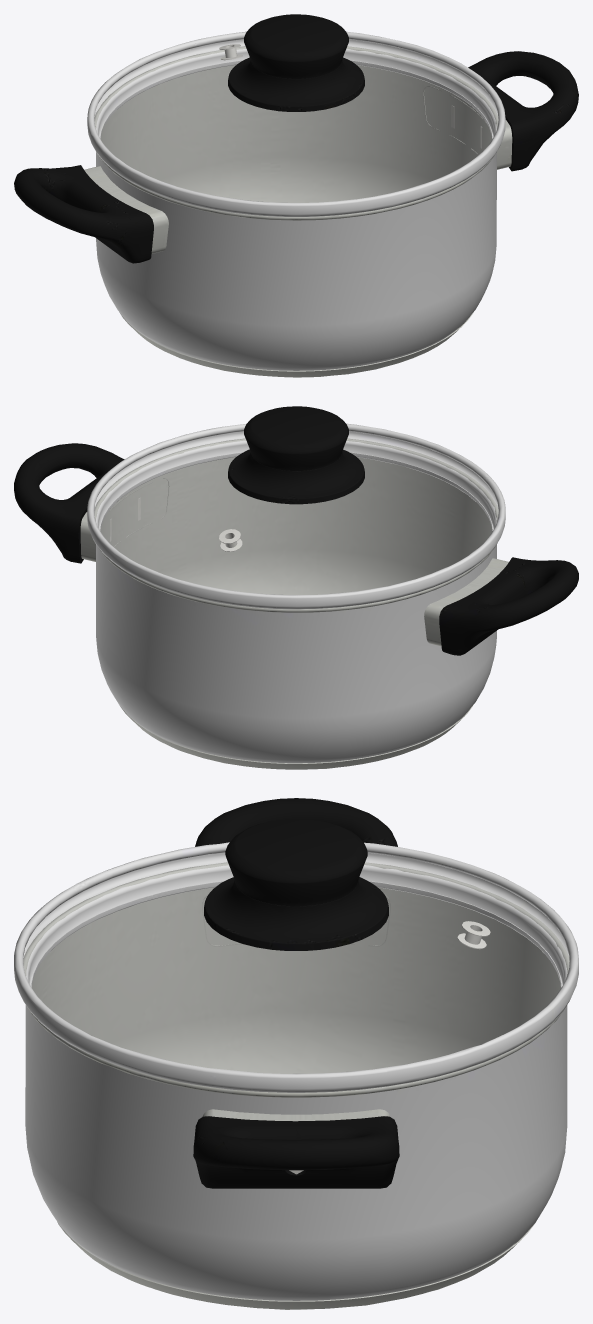
File: annons_garnek_z_pokrywka_80298474.glb
3 views of the same model, one above another, from view 1: azimuth 30°, elevation 25°; view 2: azimuth 150°, elevation 25°; view 3: azimuth 270°, elevation 25° (orthographic). The views are drawn at different scales.
Parts seen in each view (by area): view 1: annons_garnek_z_pokrywka_80298474; view 2: annons_garnek_z_pokrywka_80298474; view 3: annons_garnek_z_pokrywka_80298474.
Part boxes in pixels (x1,y1,x2,y2): annons_garnek_z_pokrywka_80298474: (14,14,578,377); annons_garnek_z_pokrywka_80298474: (14,406,578,769); annons_garnek_z_pokrywka_80298474: (14,798,578,1309).
Size of the model in its own units: 0.3107 by 0.1505 by 0.2095.
Materials: 2 (2 with a texture image).
